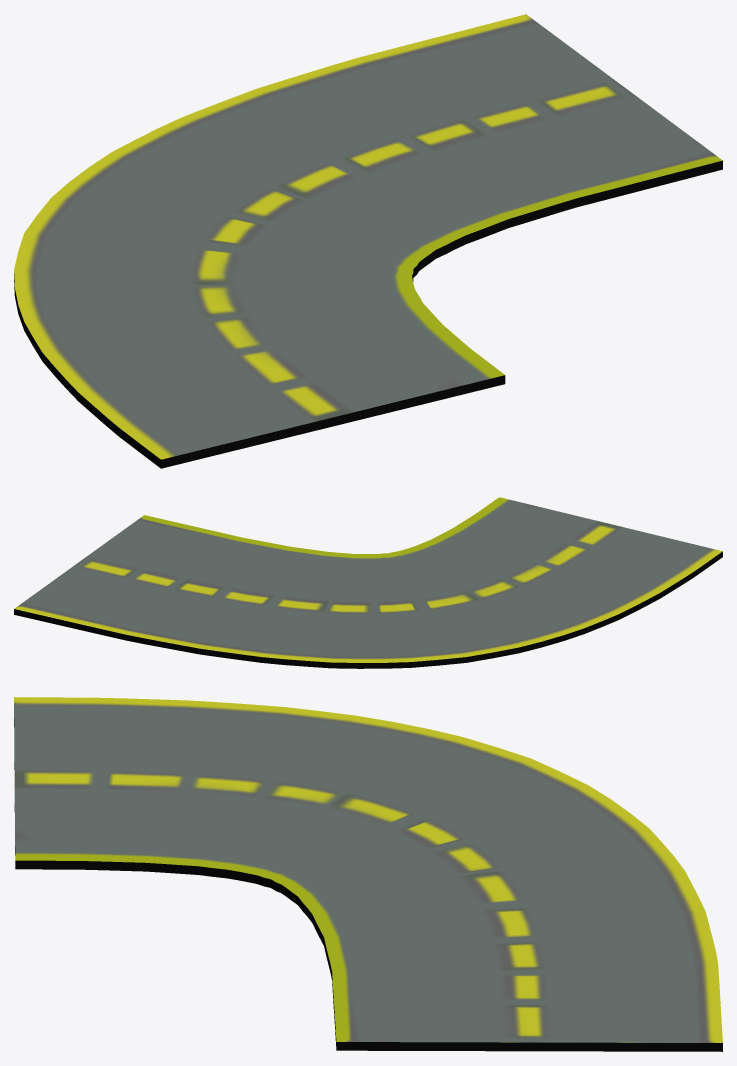
Rendered from road model curve.glb.
3 renders of one model, top to bottom at view 1: azimuth 30°, elevation 25°; view 2: azimuth 150°, elevation 25°; view 3: azimuth 270°, elevation 25°, orthographic. The views are drawn at different scales.
Parts seen in each view (by area): view 1: Cube; view 2: Cube; view 3: Cube.
Boxes of the visible parts, left/top/right/bottom form: Cube: left=14, top=14, right=722, bottom=468; Cube: left=14, top=497, right=722, bottom=668; Cube: left=14, top=697, right=722, bottom=1051.
Size of the model in its own units: 16.94 by 0.2 by 14.67.
Materials: 1 (1 with a texture image).
